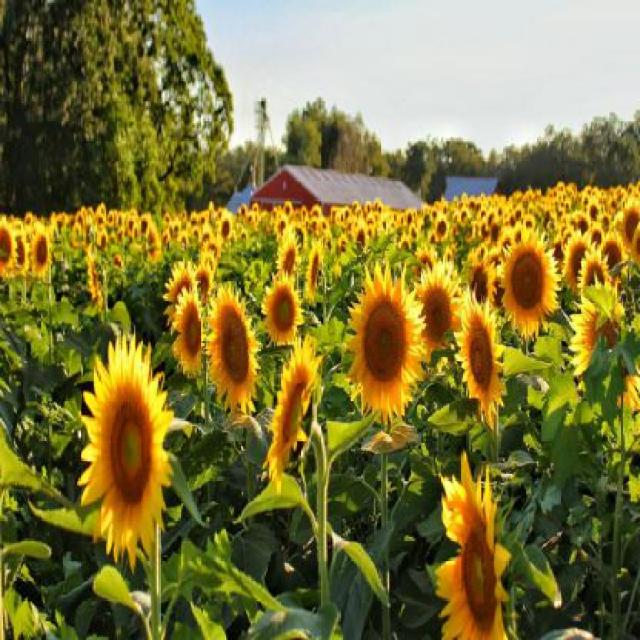sunflower: (75, 316, 176, 579), (426, 444, 520, 640), (345, 255, 427, 437), (492, 217, 566, 361), (200, 271, 262, 437), (264, 336, 329, 492), (452, 292, 508, 422), (161, 284, 210, 390), (260, 276, 312, 364)
